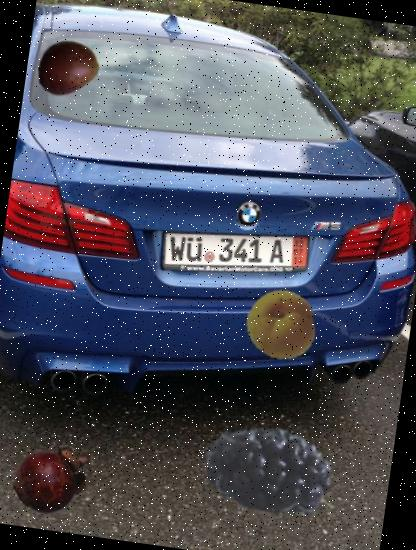Mango: (34, 34, 104, 102)
Mangostan: (8, 431, 101, 524)
Mulberry: (192, 376, 356, 540)
Peach: (240, 285, 321, 366)
